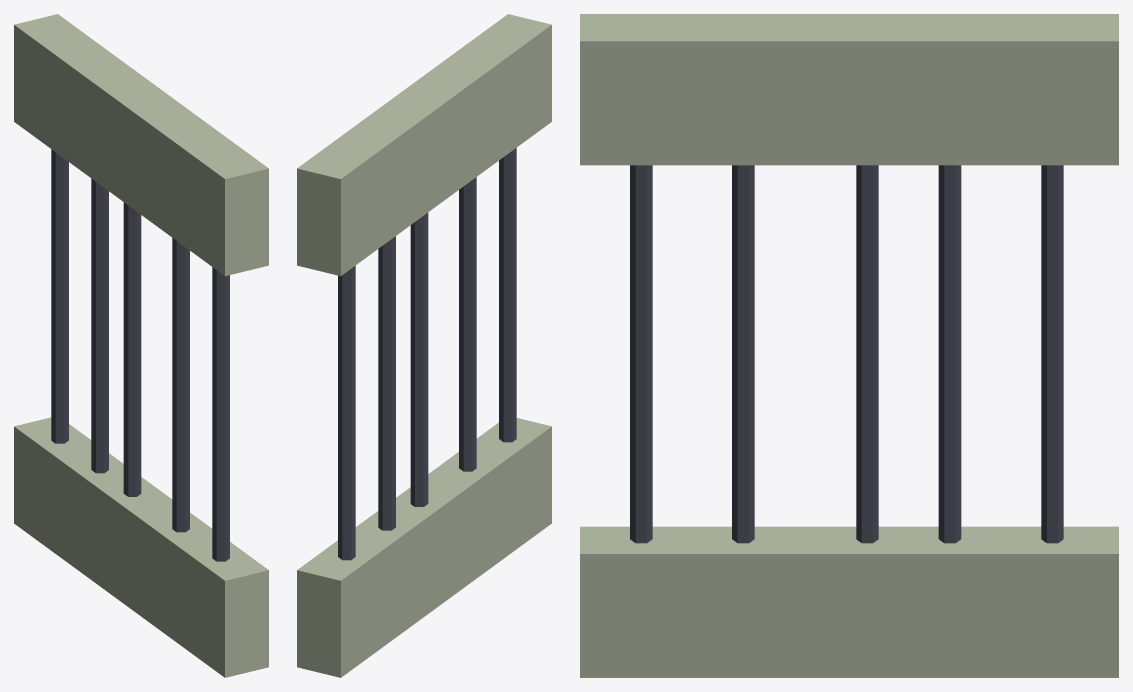
The model's file is wall5m prison.fbx.
3 renders of one model, left to right at view 1: azimuth 30°, elevation 25°; view 2: azimuth 150°, elevation 25°; view 3: azimuth 270°, elevation 25°, orthographic. The views are drawn at different scales.
Visible parts, largest first — view 1: Wall 5m.001; view 2: Wall 5m.001; view 3: Wall 5m.001.
Part boxes in pixels (bbox=[...]): Wall 5m.001: bbox=[14, 14, 268, 677]; Wall 5m.001: bbox=[297, 14, 551, 677]; Wall 5m.001: bbox=[580, 14, 1118, 677].
Bounding box in the file's own units: 60 × 652 × 500.
